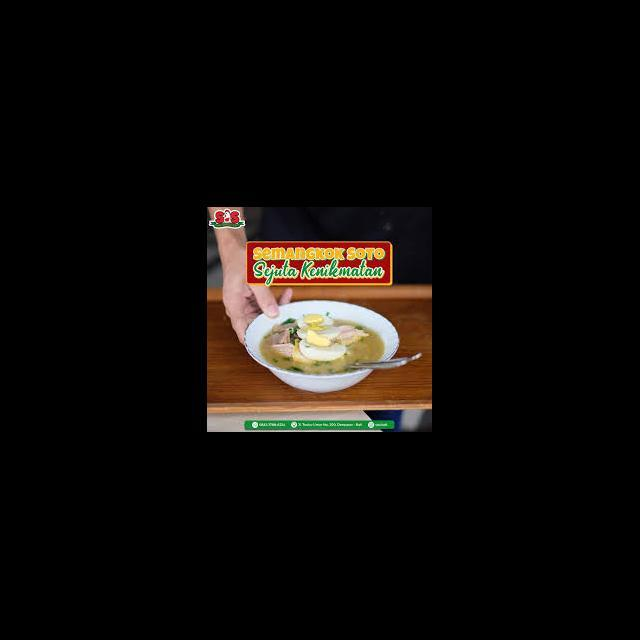Soto: (258, 309, 384, 374)
